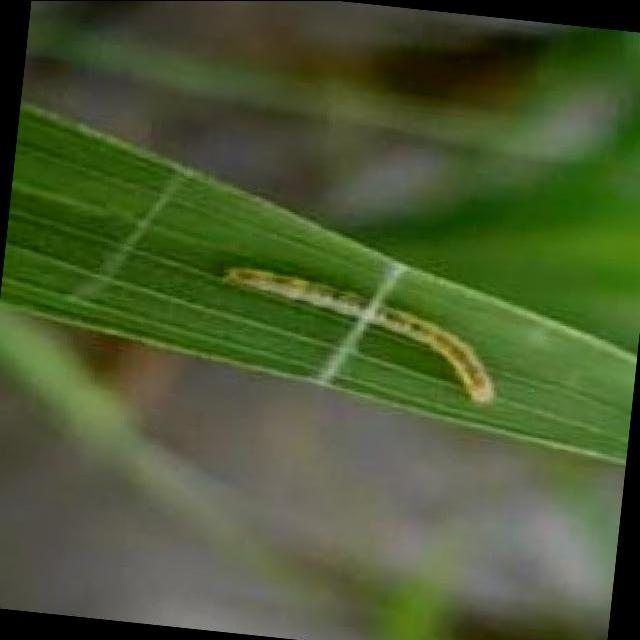leaf folder: (222, 264, 495, 403)
